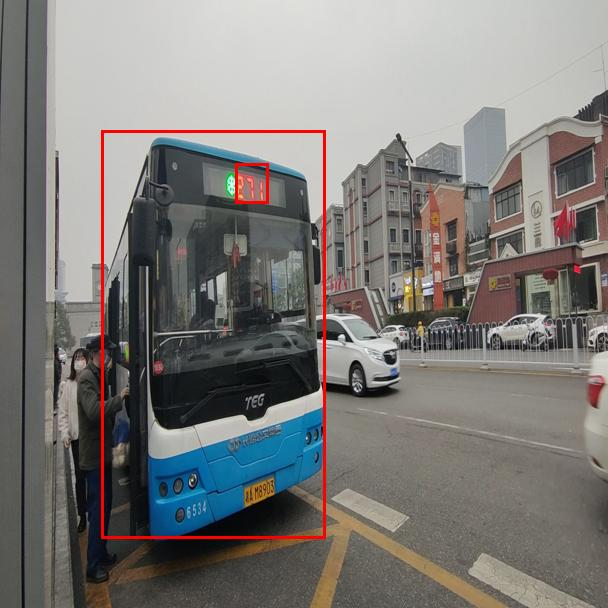bus: (101, 130, 325, 538)
screen: (235, 163, 268, 203)
